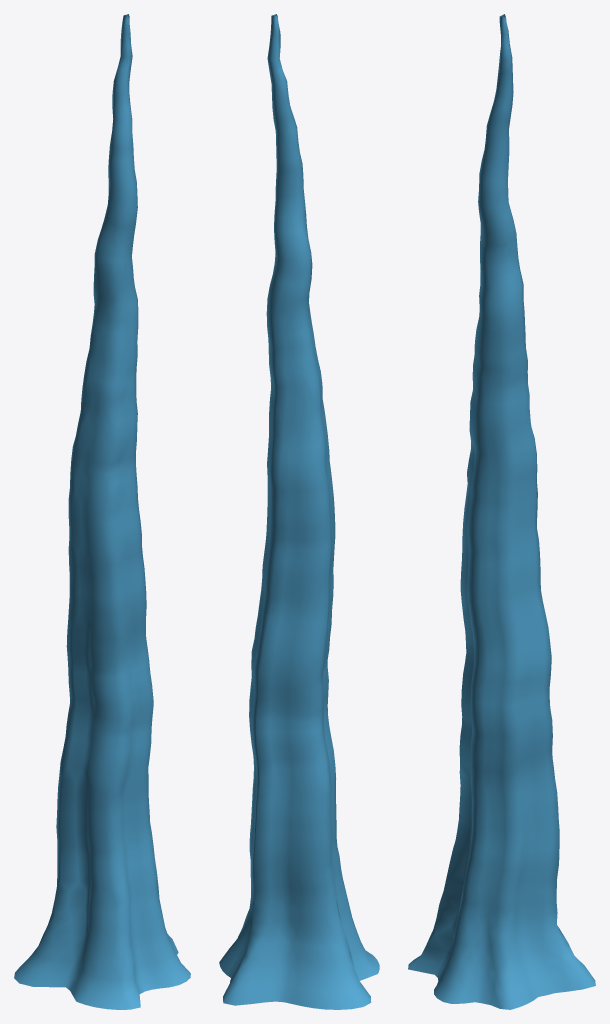
File: Tree_Stem_C.FBX
3 renders of one model, left to right at view 1: azimuth 30°, elevation 25°; view 2: azimuth 150°, elevation 25°; view 3: azimuth 270°, elevation 25°, orthographic. The views are drawn at different scales.
Parts seen in each view (by area): view 1: Object008; view 2: Object008; view 3: Object008.
Boxes of the visible parts, x1,y1,x2,y2 form: Object008: (14,14,190,1009); Object008: (219,14,379,1009); Object008: (408,14,595,1009).
Bounding box in the file's own units: 158 × 936 × 164.
